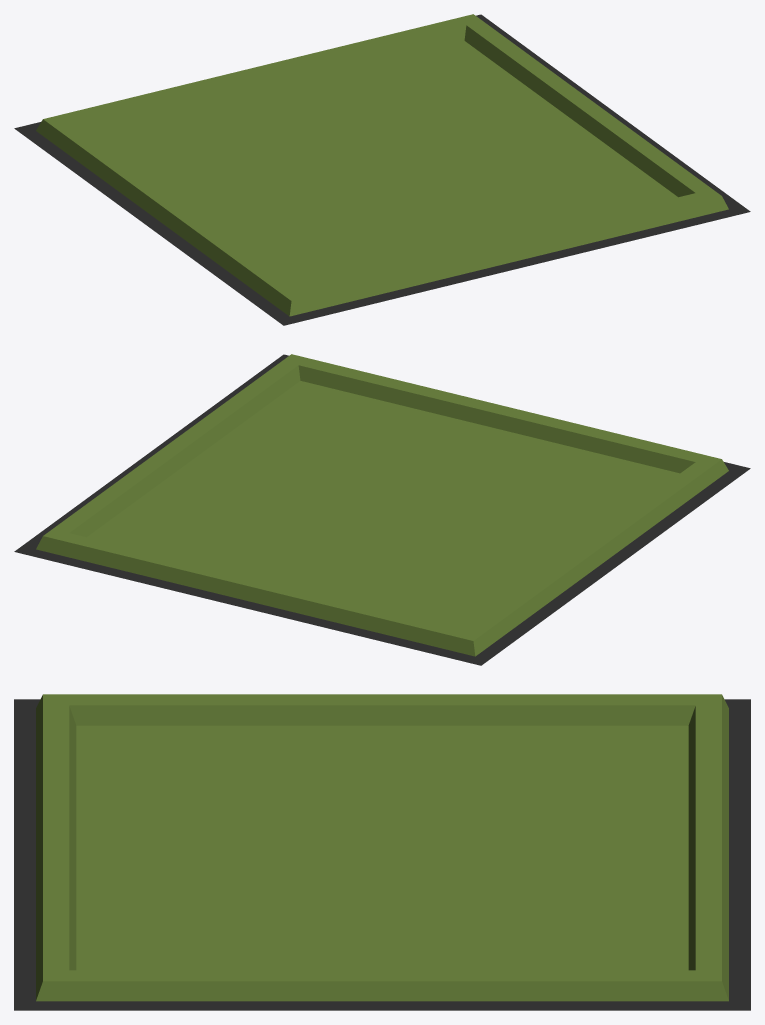
Rendered from BaseTile.fbx.
The picture shows the model from 3 angles, top to bottom: view 1: azimuth 30°, elevation 25°; view 2: azimuth 150°, elevation 25°; view 3: azimuth 270°, elevation 25°; orthographic projection. The views are drawn at different scales.
Visible parts, largest first — view 1: BaseTile; view 2: BaseTile; view 3: BaseTile.
Boxes of the visible parts, <box> form: BaseTile: <box>14,14,750,325</box>; BaseTile: <box>14,354,750,665</box>; BaseTile: <box>14,694,750,1010</box>.
Size of the model in its own units: 100 by 2.56 by 100.
